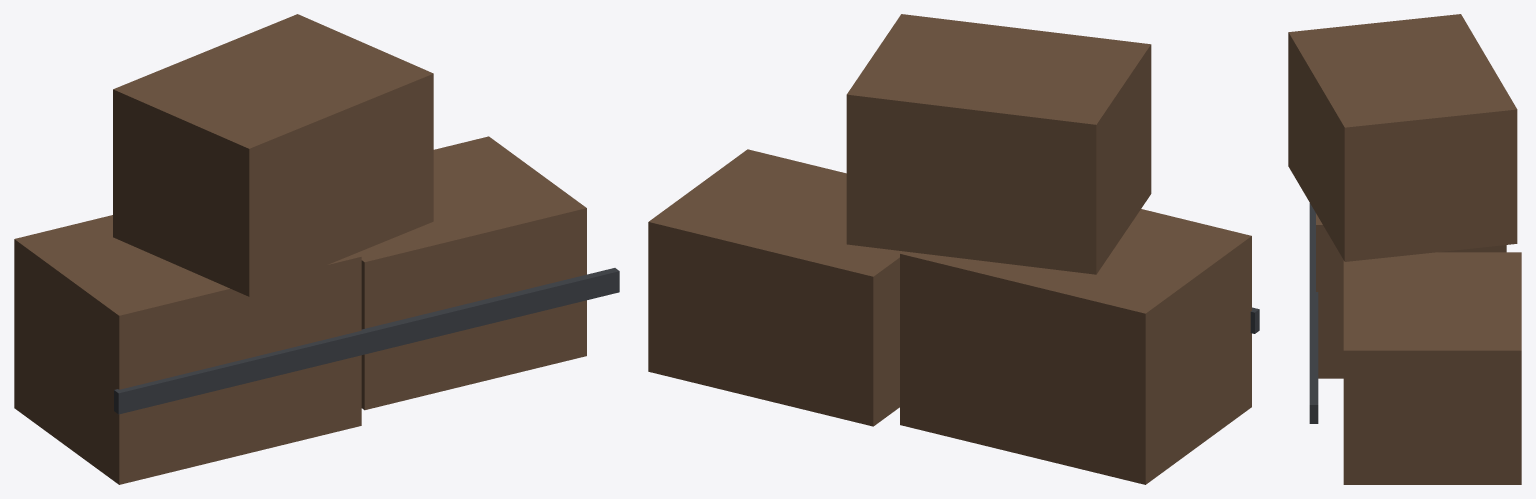
Rendered from prop_street_crate_stack.glb.
The picture shows the model from 3 angles, left to right: view 1: azimuth 30°, elevation 25°; view 2: azimuth 150°, elevation 25°; view 3: azimuth 270°, elevation 25°; orthographic projection. The views are drawn at different scales.
Parts seen in each view (by area): view 1: crate_stack; view 2: crate_stack; view 3: crate_stack.
Boxes of the visible parts, <box> form: crate_stack: <box>14,14,619,484</box>; crate_stack: <box>648,14,1259,484</box>; crate_stack: <box>1288,14,1521,484</box>.
Bounding box in the file's own units: 1.24 × 0.755 × 0.5503.
